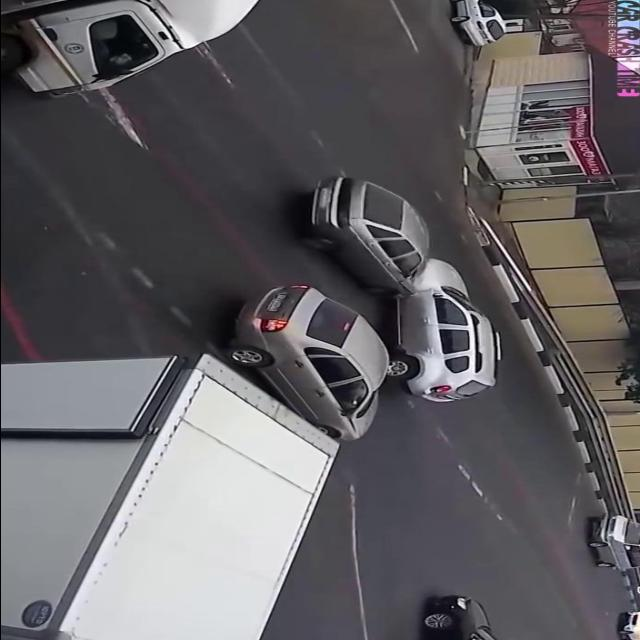accident: (284, 164, 504, 406)
